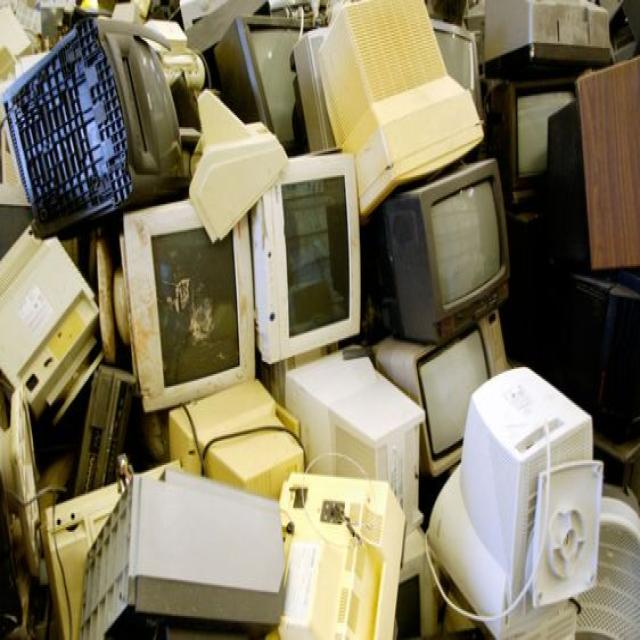electronic: (108, 146, 268, 427), (250, 110, 380, 434), (375, 154, 541, 342), (368, 314, 528, 488)
